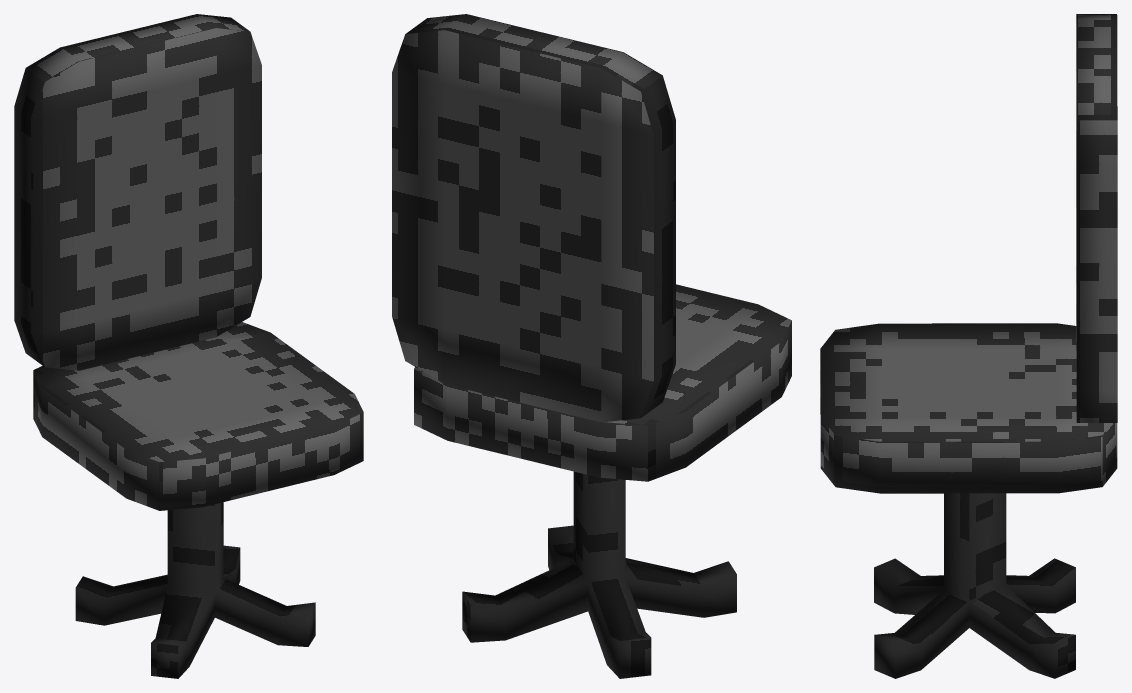
The model's file is Chair.fbx.
3 renders of one model, left to right at view 1: azimuth 30°, elevation 25°; view 2: azimuth 150°, elevation 25°; view 3: azimuth 270°, elevation 25°, orthographic. The views are drawn at different scales.
Visible parts, largest first — view 1: Chairs:Chairs; view 2: Chairs:Chairs; view 3: Chairs:Chairs.
Part boxes in pixels (left/top/right/bottom): Chairs:Chairs: left=14, top=14, right=363, bottom=678; Chairs:Chairs: left=392, top=14, right=791, bottom=678; Chairs:Chairs: left=820, top=14, right=1117, bottom=678.
Size of the model in its own units: 0.5869 by 1.34 by 0.6222.
1 material, 1 textured.
